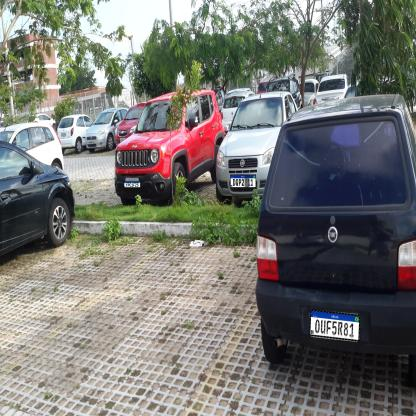PlacaM: (310, 310, 360, 342), (230, 174, 256, 188), (124, 181, 140, 188)
